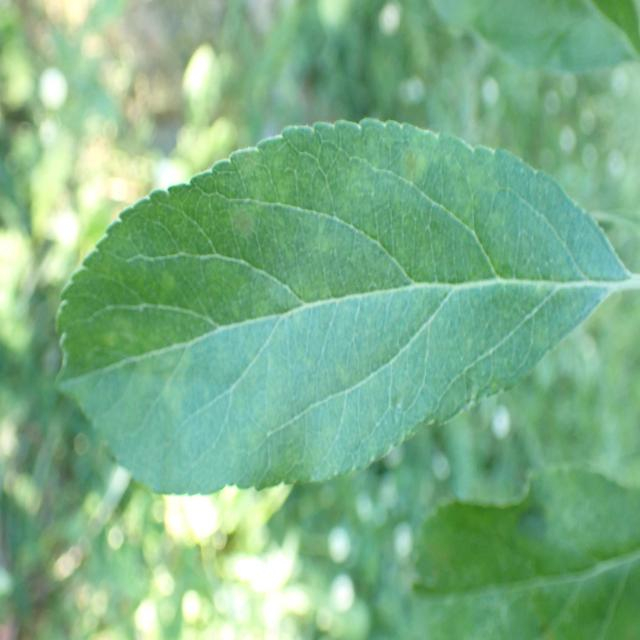scab: (66, 128, 571, 478)
